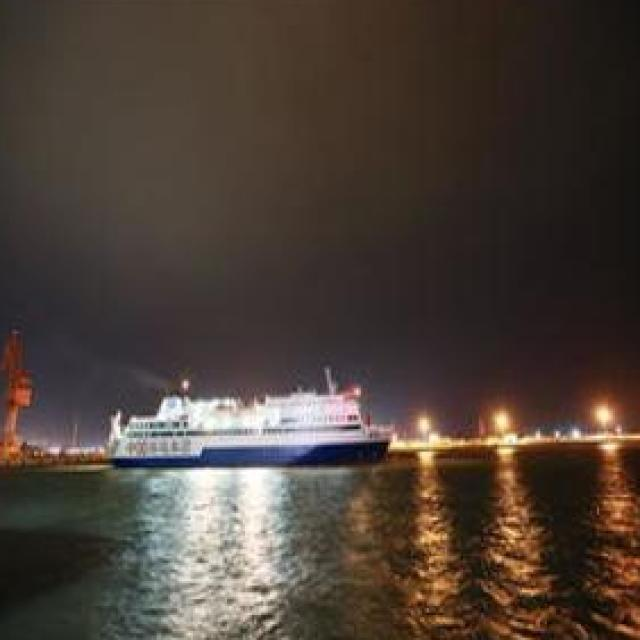passenger ship: (106, 380, 396, 465)
